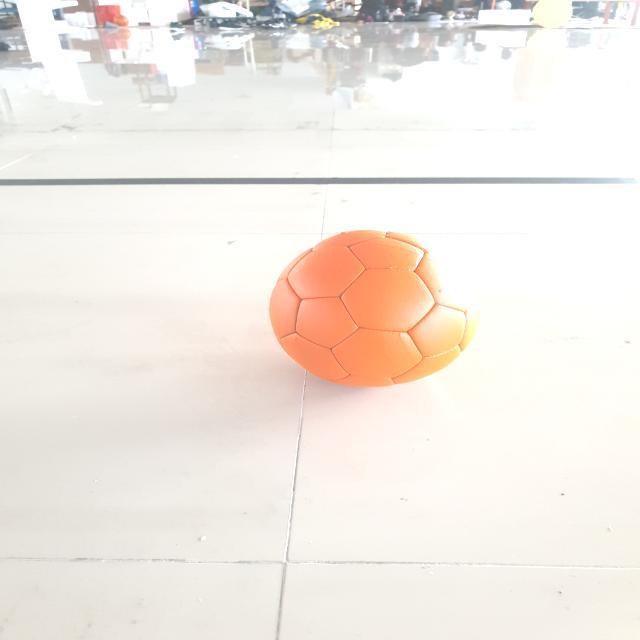bola: (258, 218, 491, 397)
